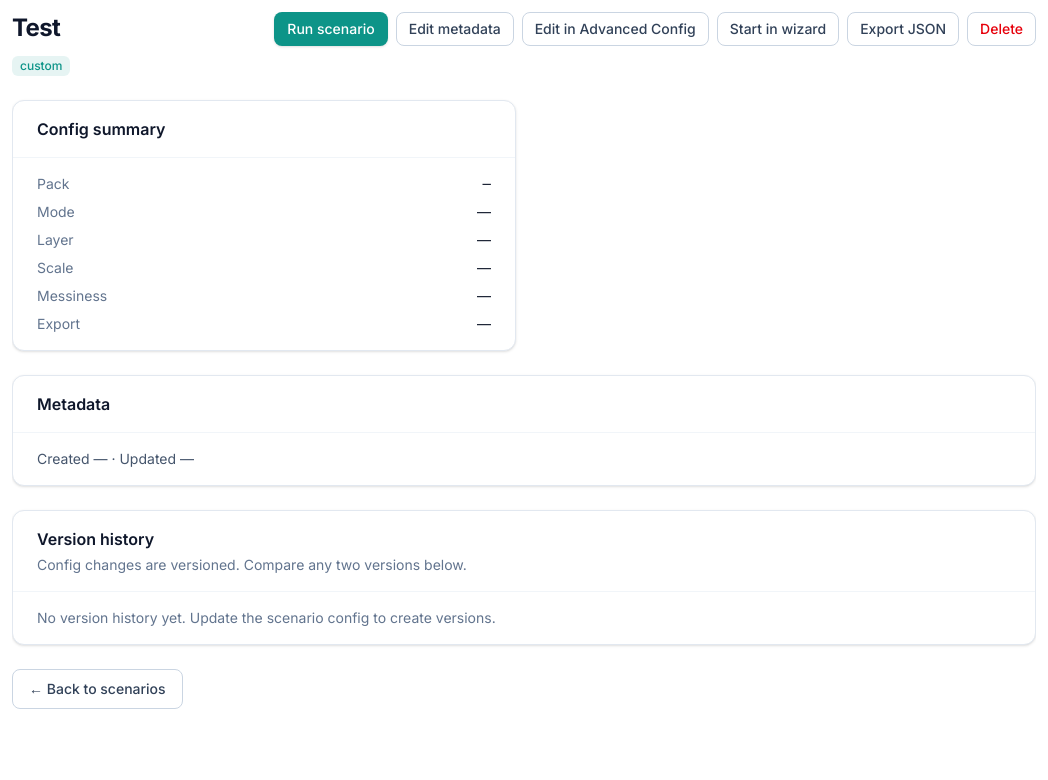
Test: Scenario detail page › renders edit metadata and save/cancel when edit mode opens
Expected: the heading "Test" is shown, [12, 13, 60, 42]
Click the button "Edit metadata" at (455, 29), box [396, 12, 514, 46]
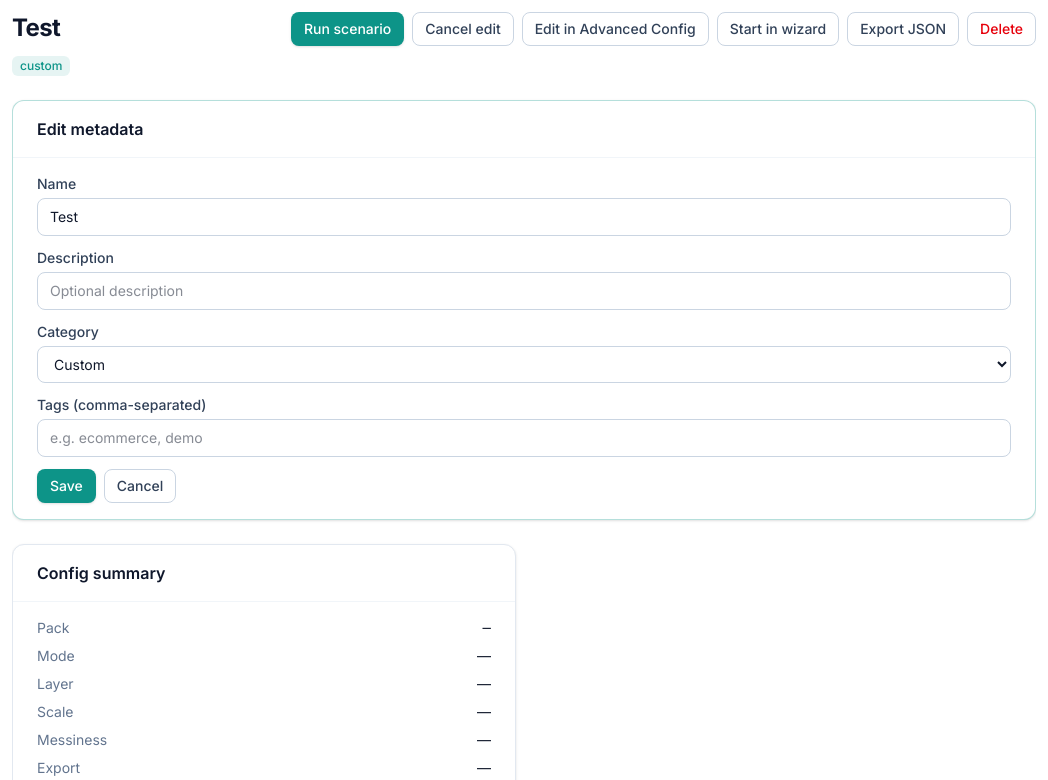
Now the button "Save" is shown, box [37, 469, 96, 503]
